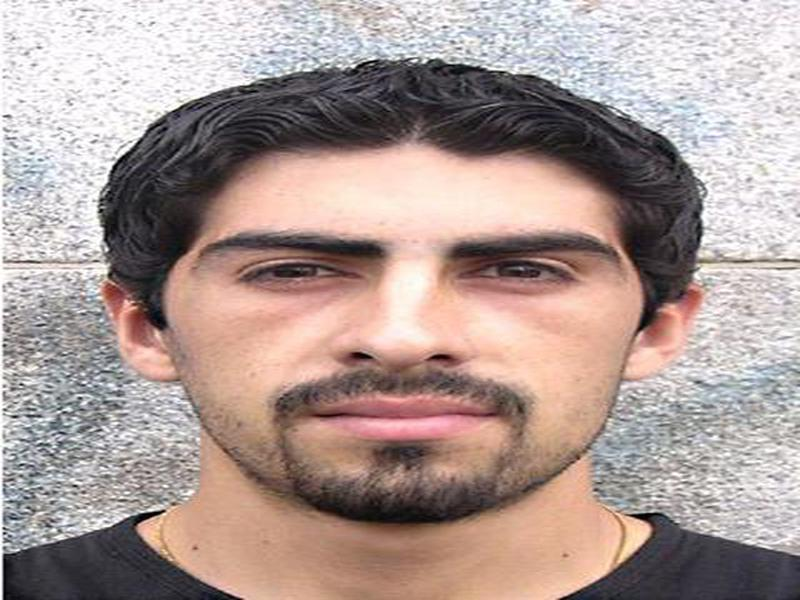without_mask: (163, 182, 644, 525)
